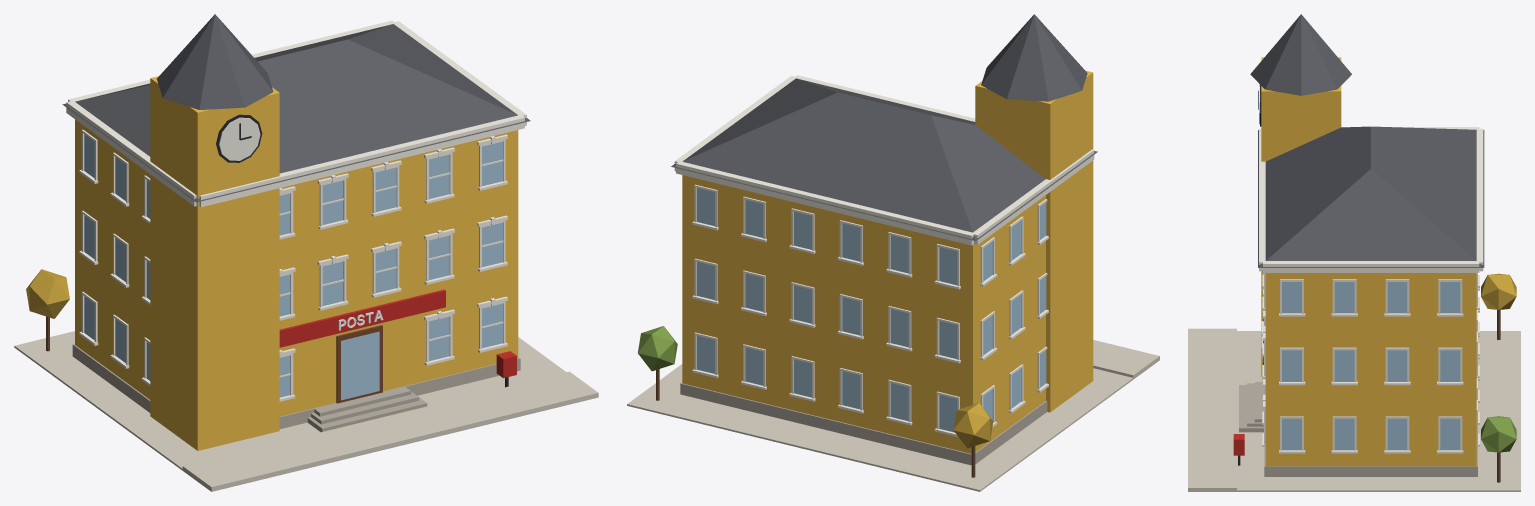
Rendered from Kamu_postane_1_Hafif.fbx.
3 views of the same model, side by side, from view 1: azimuth 30°, elevation 25°; view 2: azimuth 150°, elevation 25°; view 3: azimuth 270°, elevation 25° (orthographic). The views are drawn at different scales.
Parts seen in each view (by area): view 1: Kamu_postane_1_Hafif; view 2: Kamu_postane_1_Hafif; view 3: Kamu_postane_1_Hafif.
Boxes of the visible parts, left/top/right/bottom form: Kamu_postane_1_Hafif: left=14, top=14, right=598, bottom=491; Kamu_postane_1_Hafif: left=627, top=14, right=1159, bottom=491; Kamu_postane_1_Hafif: left=1188, top=14, right=1520, bottom=491.
Size of the model in its own units: 17 by 17.28 by 15.
